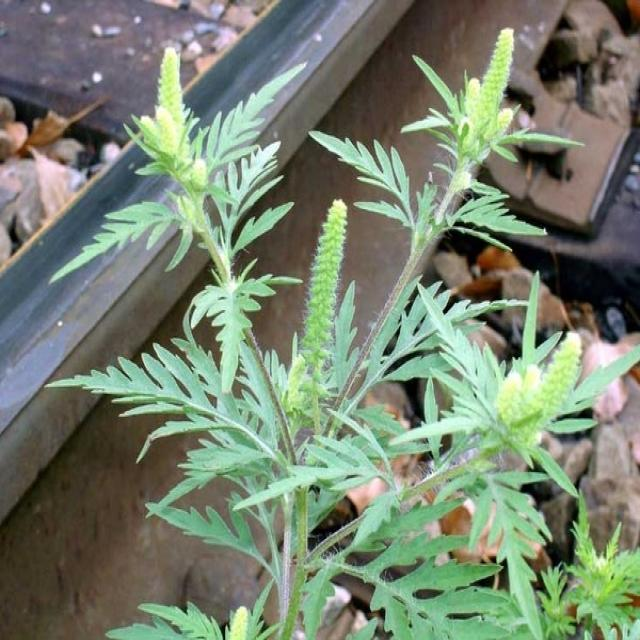ambrosia: (403, 266, 634, 640), (239, 125, 391, 574), (98, 24, 254, 323), (413, 7, 547, 264)
